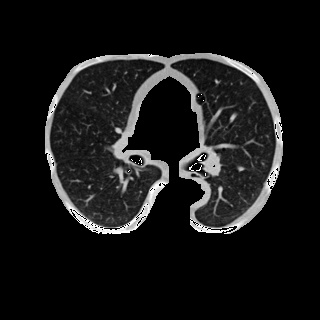PN: (237, 166, 243, 172)
